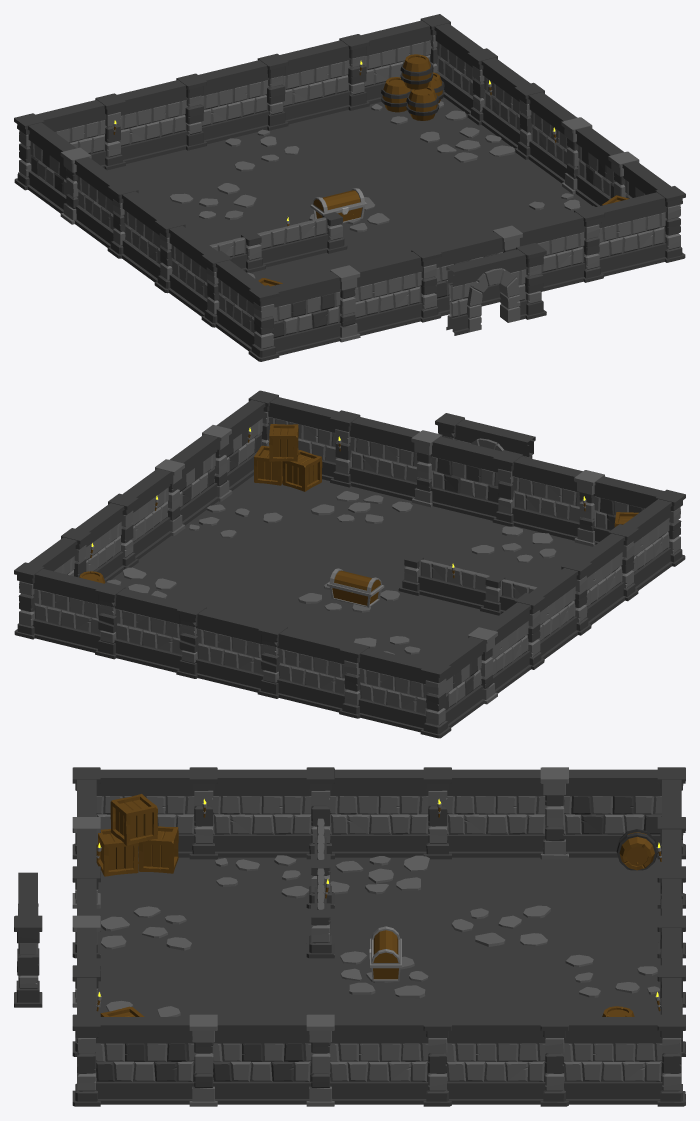
The model's file is Dungeon room var 1 (1).fbx.
3 views of the same model, one above another, from view 1: azimuth 30°, elevation 25°; view 2: azimuth 150°, elevation 25°; view 3: azimuth 270°, elevation 25° (orthographic). The views are drawn at different scales.
Parts seen in each view (by area): view 1: Door.003-colonly, wall.029-colonly, wall.018-colonly, wall.026-colonly, wall.197-colonly, wall.028-colonly, wall.023-colonly, wall.027-colonly, wall.019-colonly, wall.030-colonly, wall.034-colonly, Plane.032-colonly (+31 smaller); view 2: wall.035-colonly, wall.019-colonly, wall.196-colonly, wall.018-colonly, wall.197-colonly, wall.028-colonly, wall.023-colonly, wall.027-colonly, Plane.036-colonly, Plane.037-colonly, wall.034-colonly, wall.024-colonly (+32 smaller); view 3: wall.031-colonly, wall.033-colonly, wall.020-colonly, wall.025-colonly, wall.024-colonly, wall.021-colonly, wall.022-colonly, wall.032-colonly, wall.034-colonly, Plane.031-colonly, Plane.032-colonly, Plane.033-colonly (+36 smaller).
Part boxes in pixels (<box>): Door.003-colonly: <box>446,243,546,335</box>; wall.029-colonly: <box>270,265,360,355</box>; wall.018-colonly: <box>257,40,350,130</box>; wall.026-colonly: <box>596,186,685,276</box>; wall.197-colonly: <box>176,60,269,150</box>; wall.028-colonly: <box>352,245,441,335</box>; wall.023-colonly: <box>95,80,187,170</box>; wall.027-colonly: <box>515,205,604,291</box>; wall.019-colonly: <box>339,20,431,110</box>; wall.030-colonly: <box>214,260,279,361</box>; wall.034-colonly: <box>27,122,91,224</box>; Plane.032-colonly: <box>158,178,285,232</box>; wall.035-colonly: <box>358,648,451,738</box>; wall.019-colonly: <box>33,569,125,659</box>; wall.196-colonly: <box>411,430,501,520</box>; wall.018-colonly: <box>114,588,206,678</box>; wall.197-colonly: <box>195,608,287,698</box>; wall.028-colonly: <box>492,450,582,540</box>; wall.023-colonly: <box>277,628,369,718</box>; wall.027-colonly: <box>330,410,419,500</box>; Plane.036-colonly: <box>251,515,379,569</box>; Plane.037-colonly: <box>204,550,332,603</box>; wall.034-colonly: <box>435,627,497,727</box>; wall.024-colonly: <box>155,434,218,536</box>; wall.031-colonly: <box>189,767,311,859</box>; wall.033-colonly: <box>423,767,546,859</box>; wall.020-colonly: <box>563,1014,685,1106</box>; wall.025-colonly: <box>95,1014,217,1106</box>; wall.024-colonly: <box>212,1014,334,1106</box>; wall.021-colonly: <box>446,1014,568,1106</box>; wall.022-colonly: <box>329,1014,451,1106</box>; wall.032-colonly: <box>306,767,428,859</box>; wall.034-colonly: <box>540,767,661,859</box>; Plane.031-colonly: <box>437,952,554,1001</box>; Plane.032-colonly: <box>437,903,554,952</box>; Plane.033-colonly: <box>203,952,320,1001</box>.
Size of the model in its own units: 2097 by 313 by 2297.
